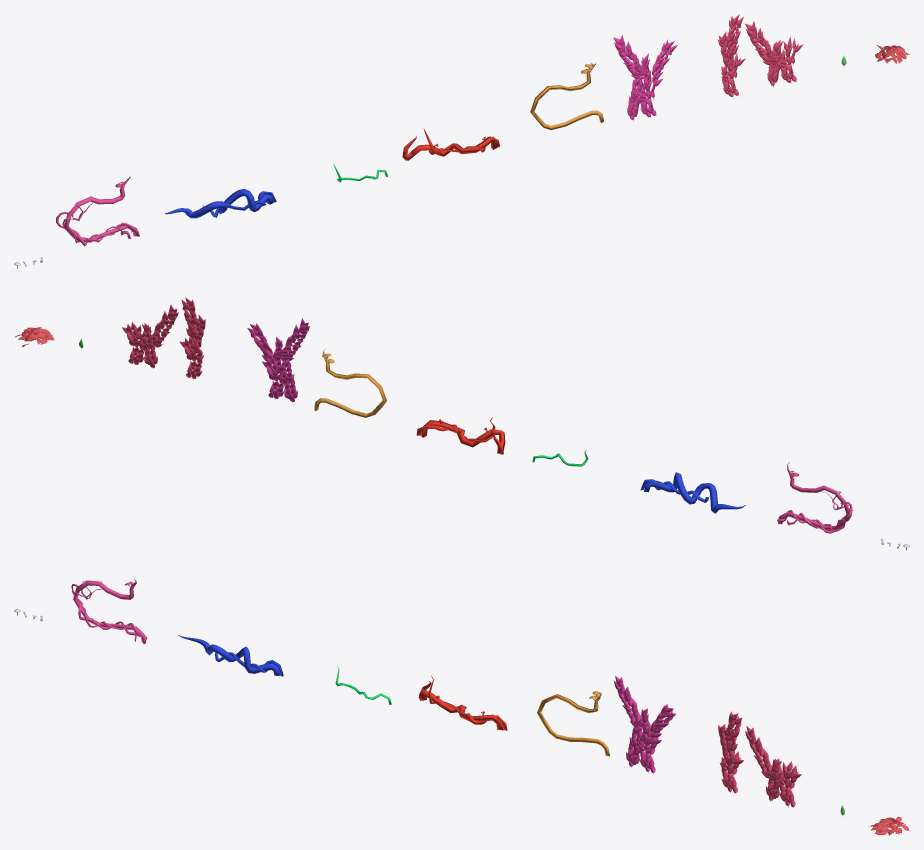
Rendered from Hojas,Ramas,Hongos.fbx.
The picture shows the model from 3 angles, top to bottom: view 1: azimuth 30°, elevation 25°; view 2: azimuth 150°, elevation 25°; view 3: azimuth 330°, elevation 25°; orthographic projection.
Visible parts, largest first — view 1: Plane.001, Plane.005, BézierCurve.008, Plane.004, BézierCurve.004, BézierCurve.023, Cylinder.008; view 2: Plane.001, Plane.005, Plane.004, BézierCurve.008, BézierCurve.004, BézierCurve.023, Cylinder.008; view 3: Plane.001, Plane.005, Plane.004, BézierCurve.008, BézierCurve.004, BézierCurve.023, Cylinder.008.
Boxes of the visible parts, x1,y1,x2,y2 form: Plane.001: [613, 35, 677, 120]; Plane.005: [745, 21, 803, 86]; BézierCurve.008: [56, 176, 139, 246]; Plane.004: [717, 14, 745, 97]; BézierCurve.004: [165, 189, 276, 218]; BézierCurve.023: [402, 128, 499, 160]; Cylinder.008: [530, 63, 604, 129]; Plane.001: [247, 318, 309, 402]; Plane.005: [122, 304, 178, 368]; Plane.004: [179, 297, 205, 378]; BézierCurve.008: [777, 462, 852, 533]; BézierCurve.004: [640, 472, 745, 513]; BézierCurve.023: [416, 417, 505, 454]; Cylinder.008: [314, 348, 386, 417]; Plane.001: [614, 676, 676, 774]; Plane.005: [745, 726, 801, 807]; Plane.004: [718, 711, 743, 794]; BézierCurve.008: [71, 579, 146, 643]; BézierCurve.004: [178, 635, 283, 676]; BézierCurve.023: [418, 675, 507, 730]; Cylinder.008: [537, 691, 609, 756].
Bounding box in the file's own units: 1719 × 164 × 78.86.
